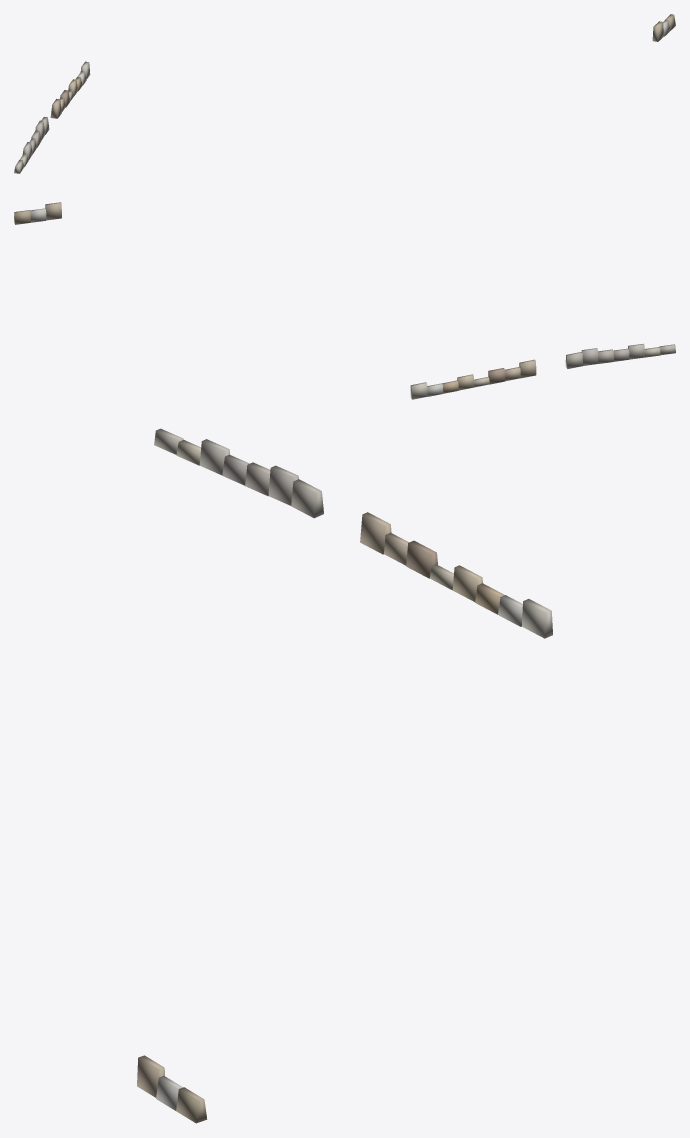
Rendered from farm_25_8_collision.glb.
3 renders of one model, top to bottom at view 1: azimuth 30°, elevation 25°; view 2: azimuth 150°, elevation 25°; view 3: azimuth 270°, elevation 25°, orthographic. The views are drawn at different scales.
Visible parts, largest first — view 1: geometry_0; view 2: geometry_0; view 3: geometry_0.
Part boxes in pixels (x1,y1,x2,y2): geometry_0: (14,14,675,173); geometry_0: (14,202,675,399); geometry_0: (137,428,552,1123).
Bounding box in the file's own units: 74.7 × 3.74 × 20.6.
